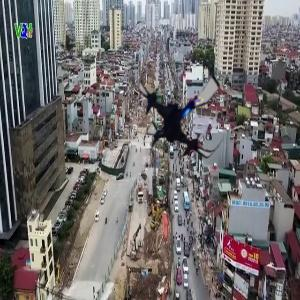drone: (127, 55, 238, 166)
